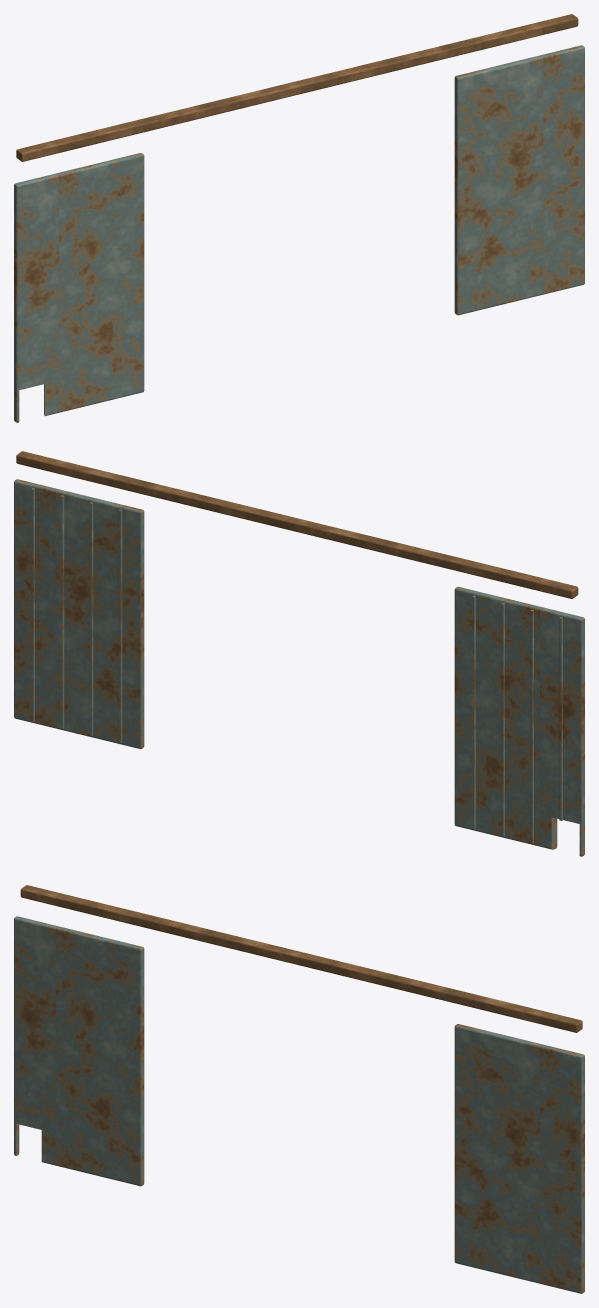
Rendered from Shed_Sliding_Doors.glb.
The picture shows the model from 3 angles, top to bottom: view 1: azimuth 30°, elevation 25°; view 2: azimuth 150°, elevation 25°; view 3: azimuth 330°, elevation 25°; orthographic projection.
Visible parts, largest first — view 1: Shed_Sliding_Doors; view 2: Shed_Sliding_Doors; view 3: Shed_Sliding_Doors.
Boxes of the visible parts, x1=… form: Shed_Sliding_Doors: x1=14, y1=14, x2=584, y2=422; Shed_Sliding_Doors: x1=14, y1=451, x2=584, y2=856; Shed_Sliding_Doors: x1=14, y1=885, x2=584, y2=1293.
Bounding box in the file's own units: 11.75 × 5.29 × 0.25.
2 materials, 2 textured.
